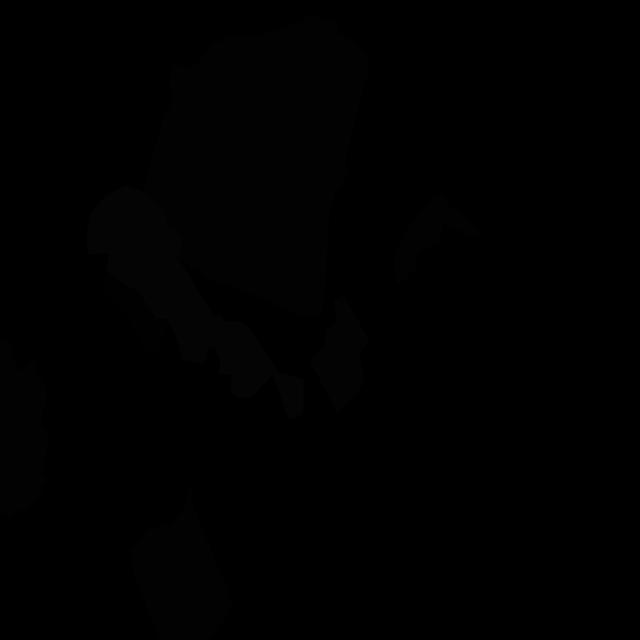cardboard: (144, 12, 369, 317), (131, 484, 233, 640), (0, 339, 50, 517), (394, 195, 481, 285)
metal: (309, 295, 370, 412)
rigid_plastic: (101, 271, 166, 357)
soft_plastic: (87, 185, 304, 419)
